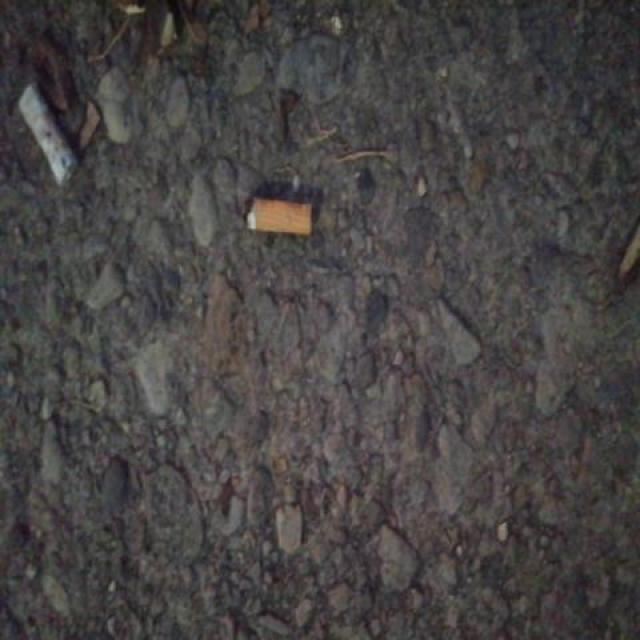non-organic waste: (242, 193, 318, 242)
